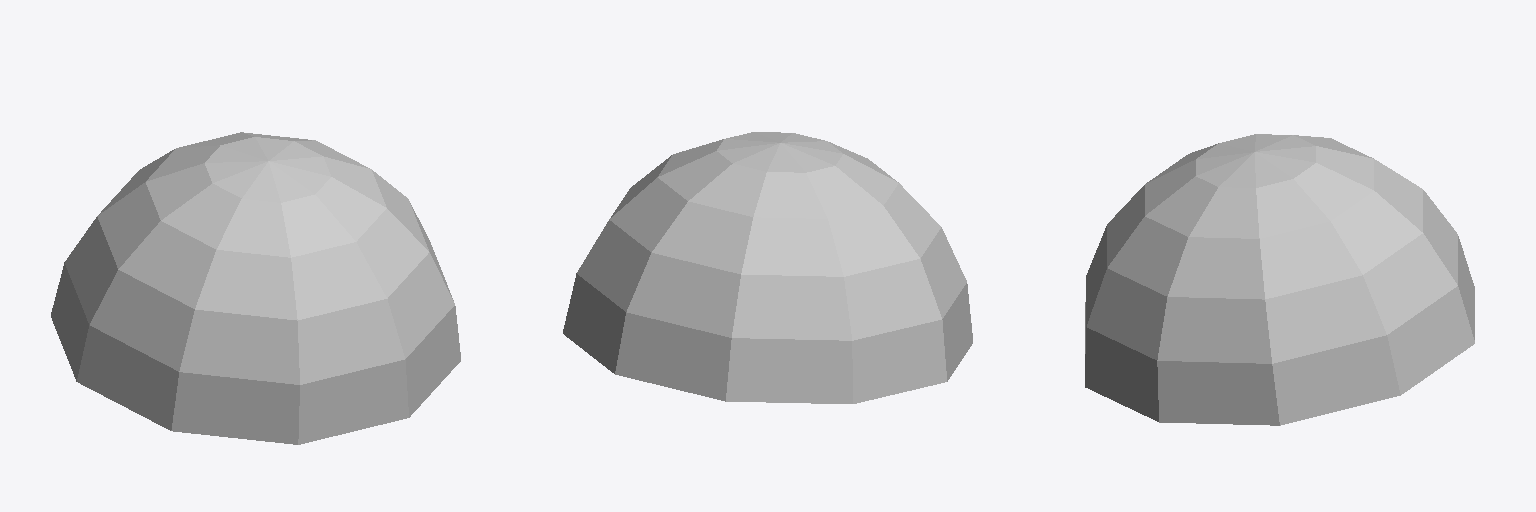
File: module_lever_mount_lamp2.obj
3 views of the same model, side by side, from view 1: azimuth 30°, elevation 25°; view 2: azimuth 150°, elevation 25°; view 3: azimuth 270°, elevation 25° (orthographic).
Bounding box in the file's own units: 0.0328 × 0.0182 × 0.031.